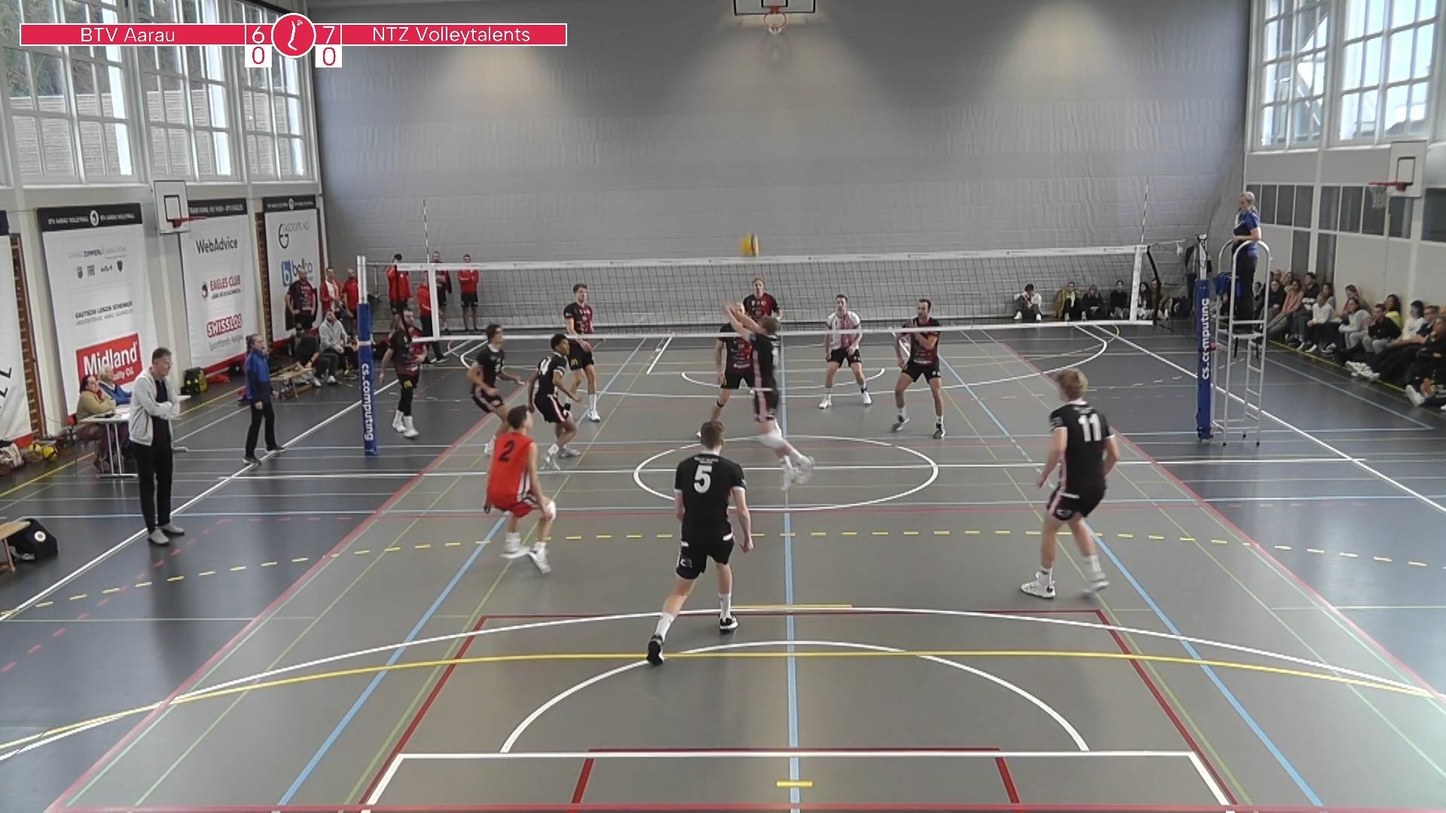Player: (647, 421, 752, 665), (1021, 368, 1118, 597), (484, 406, 556, 574), (891, 298, 944, 439), (529, 334, 580, 468), (377, 308, 427, 438), (819, 294, 871, 409), (563, 283, 600, 422), (468, 324, 520, 418), (709, 324, 755, 421), (743, 277, 780, 319)
Set: (719, 301, 821, 490)
ball: (738, 233, 759, 254)
